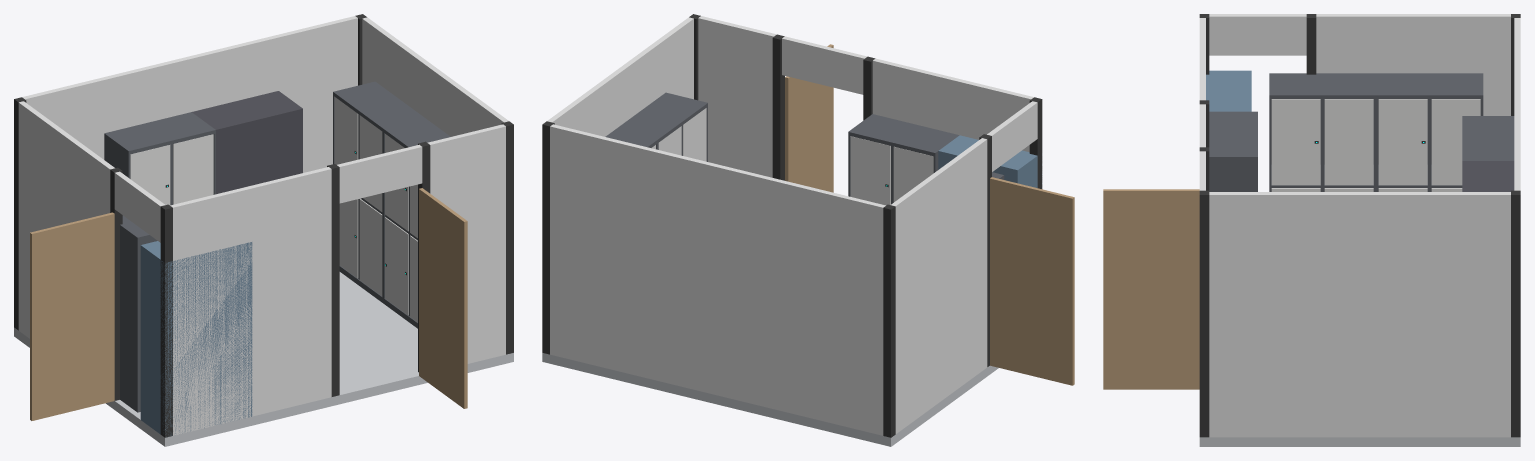
File: room_4x3-lockers.glb
3 views of the same model, side by side, from view 1: azimuth 30°, elevation 25°; view 2: azimuth 150°, elevation 25°; view 3: azimuth 270°, elevation 25° (orthographic). The views are drawn at different scales.
Parts seen in each view (by area): view 1: Wall_South_Left, Wall_North, WINNSEN_E04A_03, Door_Leaf_West_4x3, Wall_South_Right, Floor_Slab_4x3, Wall_West, Door_Leaf_4x3, WINNSEN_MAIN_CONSOLE_02, Wall_East, E04A_Header (×3), E04A_Door_03 (×3) (+13 smaller); view 2: Wall_North, Wall_West, Door_Leaf_West_4x3, Wall_South_Right, Wall_South_Left, Wall_East, Door_Leaf_4x3, E04A_Header (×2), Floor_Slab_4x3, Lintel_Door_South, Corner_Post_4, E04A_Door_04 (×2) (+8 smaller); view 3: Wall_East, Door_Leaf_4x3, Wall_West, E04A_Header (×4), E04A_Door_03 (×2), E04A_Door_04 (×2), Lintel_Door_West, Floor_Slab_4x3, Corner_Post_2, Corner_Post_3, WINNSEN_E04A_03, WINNSEN_MAIN_CONSOLE_02 (+5 smaller).
Part boxes in pixels (<box>): Wall_South_Left: <box>170,167,331,435</box>; Wall_North: <box>22,16,357,172</box>; WINNSEN_E04A_03: <box>140,241,252,436</box>; Door_Leaf_West_4x3: <box>30,212,114,420</box>; Wall_South_Right: <box>427,124,505,363</box>; Floor_Slab_4x3: <box>14,272,513,446</box>; Wall_West: <box>18,101,114,338</box>; Door_Leaf_4x3: <box>419,188,467,408</box>; WINNSEN_MAIN_CONSOLE_02: <box>192,91,302,194</box>; Wall_East: <box>362,17,508,136</box>; E04A_Header (×3): <box>104,81,449,154</box>; E04A_Door_03 (×3): <box>130,97,408,231</box>; Wall_North: <box>550,124,885,435</box>; Wall_West: <box>891,138,987,433</box>; Door_Leaf_West_4x3: <box>990,177,1074,385</box>; Wall_South_Right: <box>698,16,776,177</box>; Wall_South_Left: <box>872,58,1033,152</box>; Wall_East: <box>547,17,693,136</box>; Door_Leaf_4x3: <box>785,44,833,192</box>; E04A_Header (×2): <box>616,93,959,156</box>; Floor_Slab_4x3: <box>542,353,998,446</box>; Lintel_Door_South: <box>782,36,867,94</box>; Corner_Post_4: <box>883,204,895,437</box>; E04A_Door_04 (×2): <box>683,108,933,202</box>; Wall_East: <box>1209,192,1510,437</box>; Door_Leaf_4x3: <box>1103,189,1199,389</box>; Wall_West: <box>1316,14,1510,115</box>; E04A_Header (×4): <box>1209,73,1514,160</box>; E04A_Door_03 (×2): <box>1271,99,1427,185</box>; E04A_Door_04 (×2): <box>1324,99,1480,185</box>; Lintel_Door_West: <box>1209,14,1306,55</box>; Floor_Slab_4x3: <box>1199,437,1520,446</box>; Corner_Post_2: <box>1199,190,1209,437</box>; Corner_Post_3: <box>1511,190,1520,437</box>; WINNSEN_E04A_03: <box>1206,70,1251,111</box>; WINNSEN_MAIN_CONSOLE_02: <box>1462,161,1514,191</box>.
Size of the model in its own units: 4.95 by 2.6 by 3.9.
